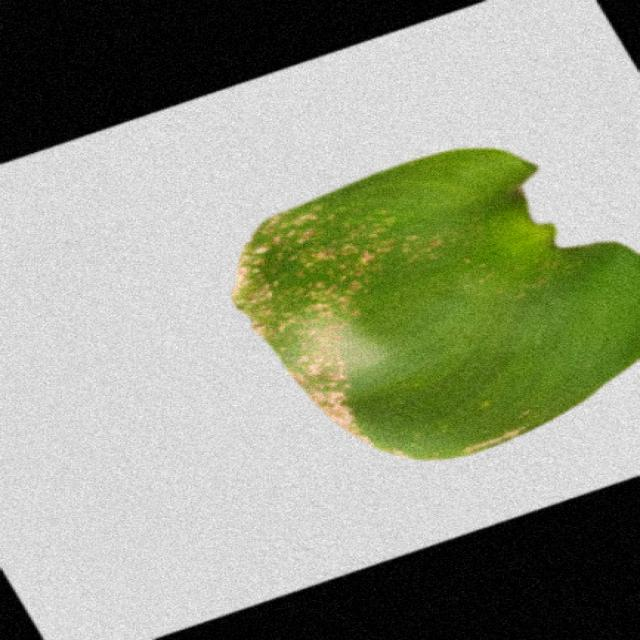daun berpenyakit bercak: (233, 149, 638, 459)
